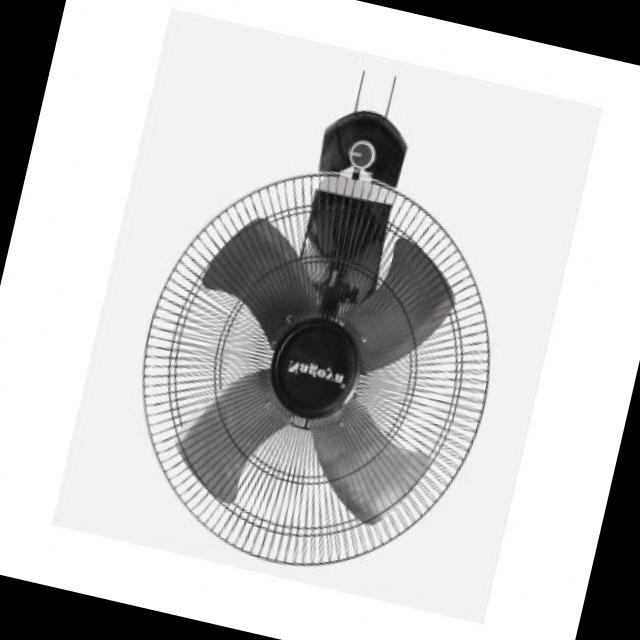fan: (90, 21, 564, 612)
